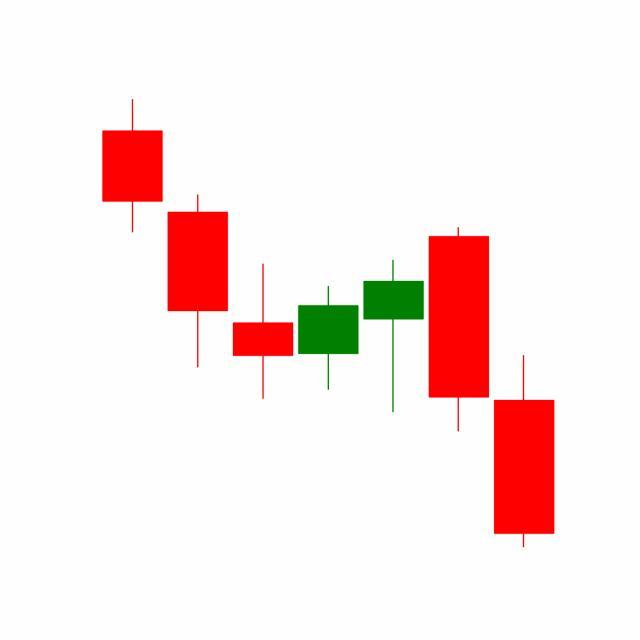Three Outside Up-Down: (360, 224, 556, 549)
